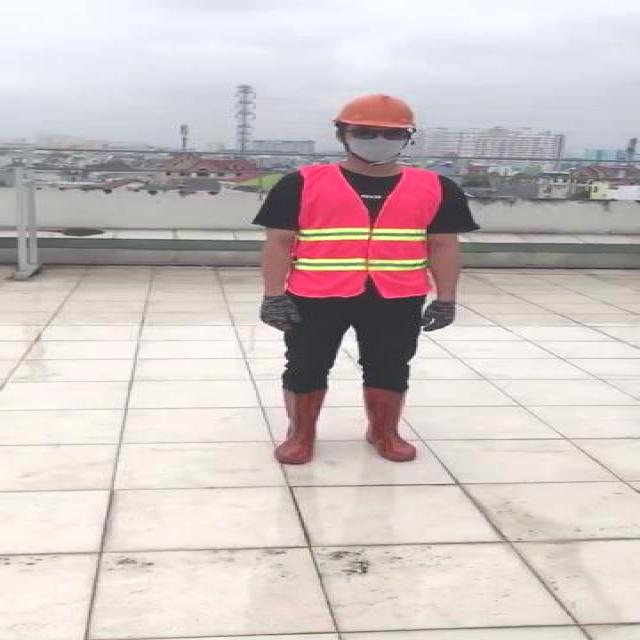boots: (361, 389, 419, 460), (272, 388, 325, 464)
face_mask: (346, 126, 413, 162)
glasses: (341, 125, 416, 144)
hand_glove: (260, 294, 298, 332), (419, 299, 457, 333)
head_helmet: (335, 90, 421, 128)
person: (244, 92, 476, 470)
vest: (286, 162, 441, 300)
